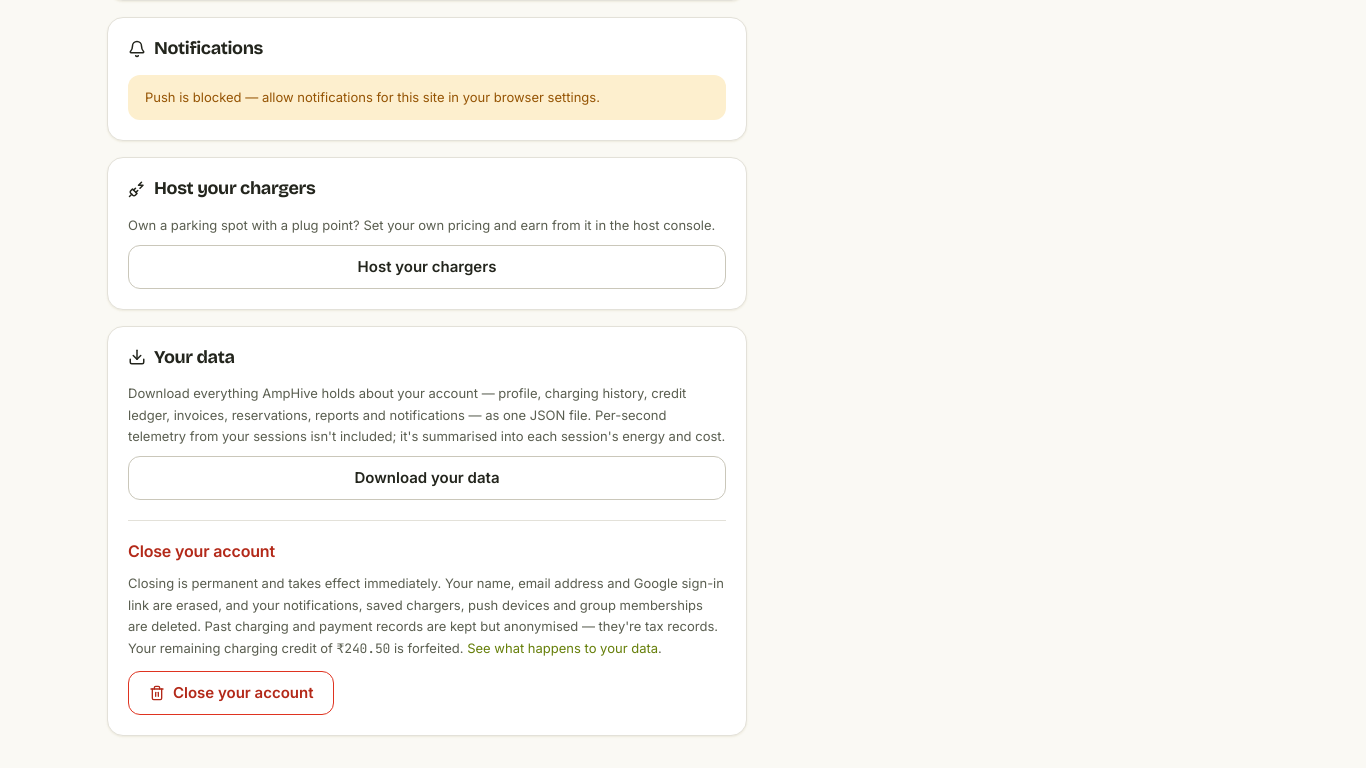
Test case: your data — account closure › names the actual balance at risk when the account still holds credit
The width and height of the screenshot is (1366, 768).
(page scrolled)
Click the button "Close your account" at point(231, 693), box [128,671,334,715]
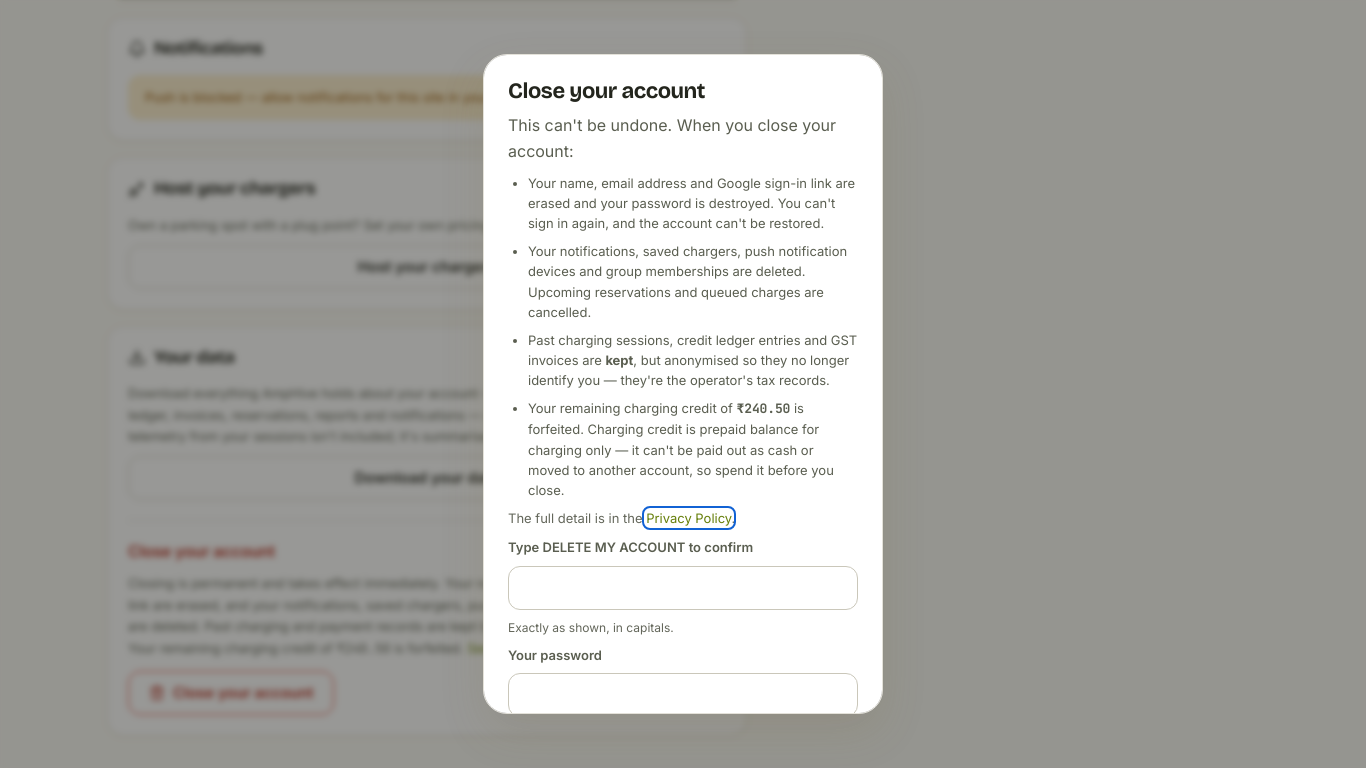
Expected: the text "₹240.50" is shown, [737,400,790,417]
Expected: the list item "spend it before you close" is shown, [528,400,834,498]
